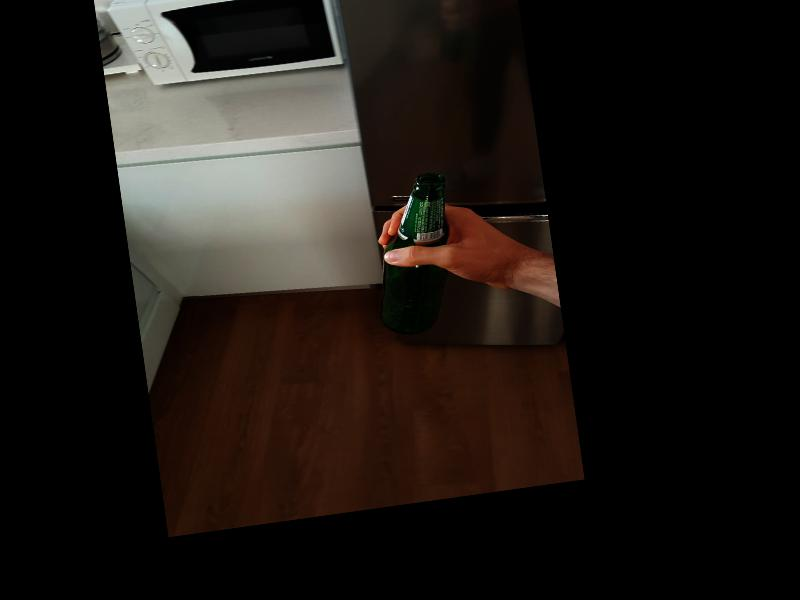Beer: (363, 171, 465, 338)
